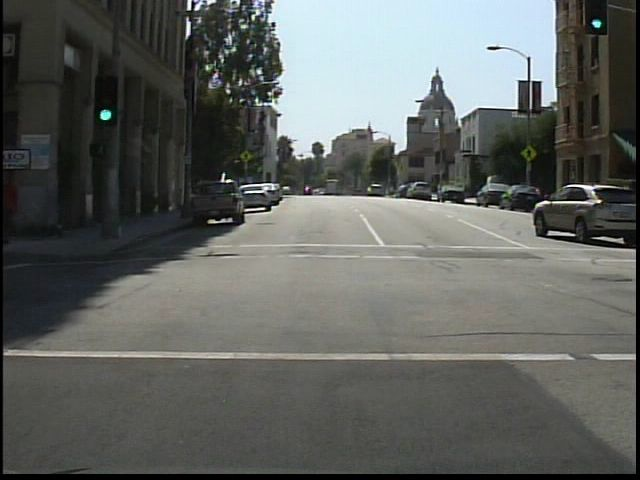person: (1, 160, 25, 246)
